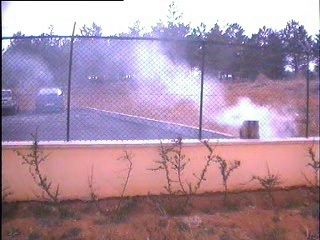smoke: (83, 28, 293, 139)
